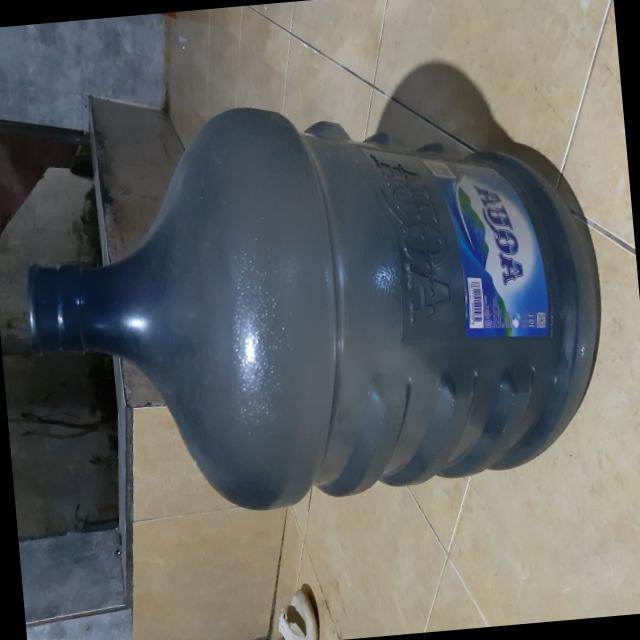Galon: (11, 73, 618, 530)
